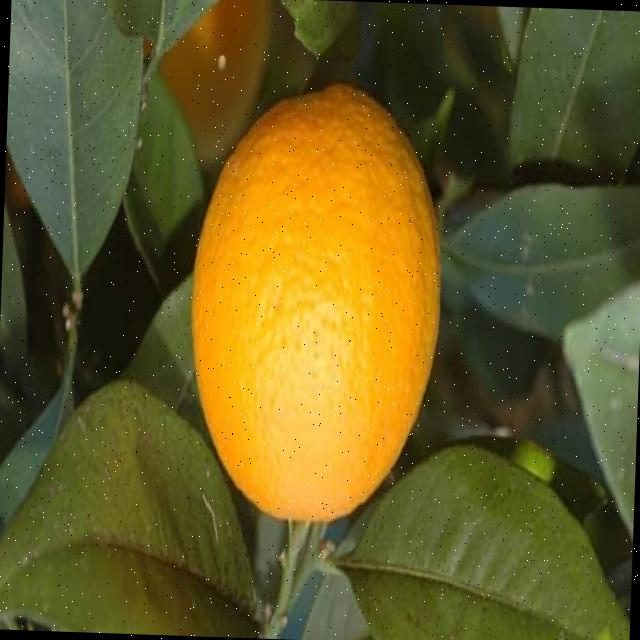Jeruk: (183, 78, 448, 528)
